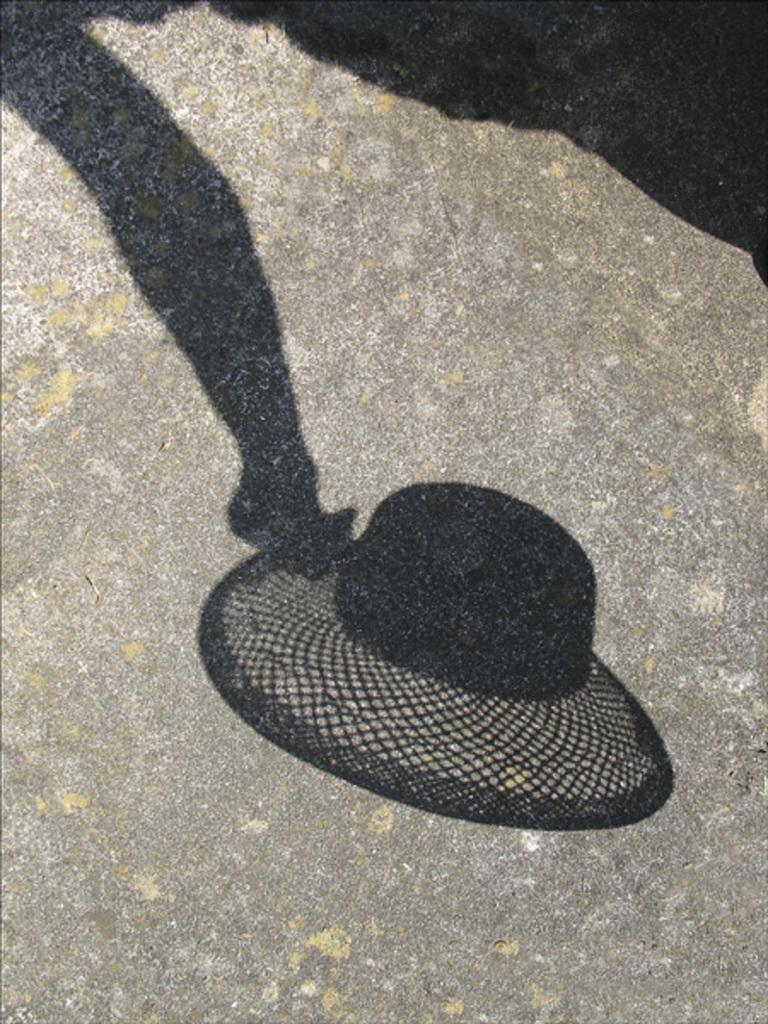Hat: (215, 492, 667, 840)
